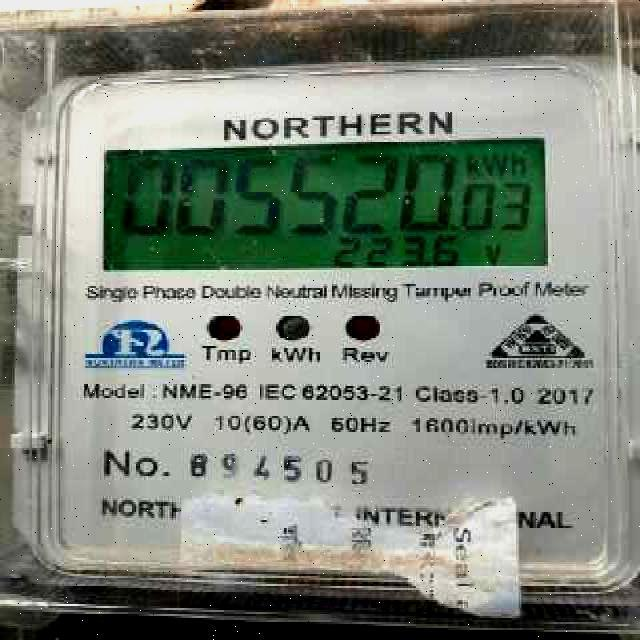LCD: (91, 141, 560, 274)
